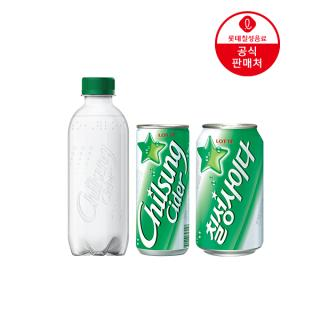chilsung: (194, 122, 264, 258), (133, 121, 192, 257)
